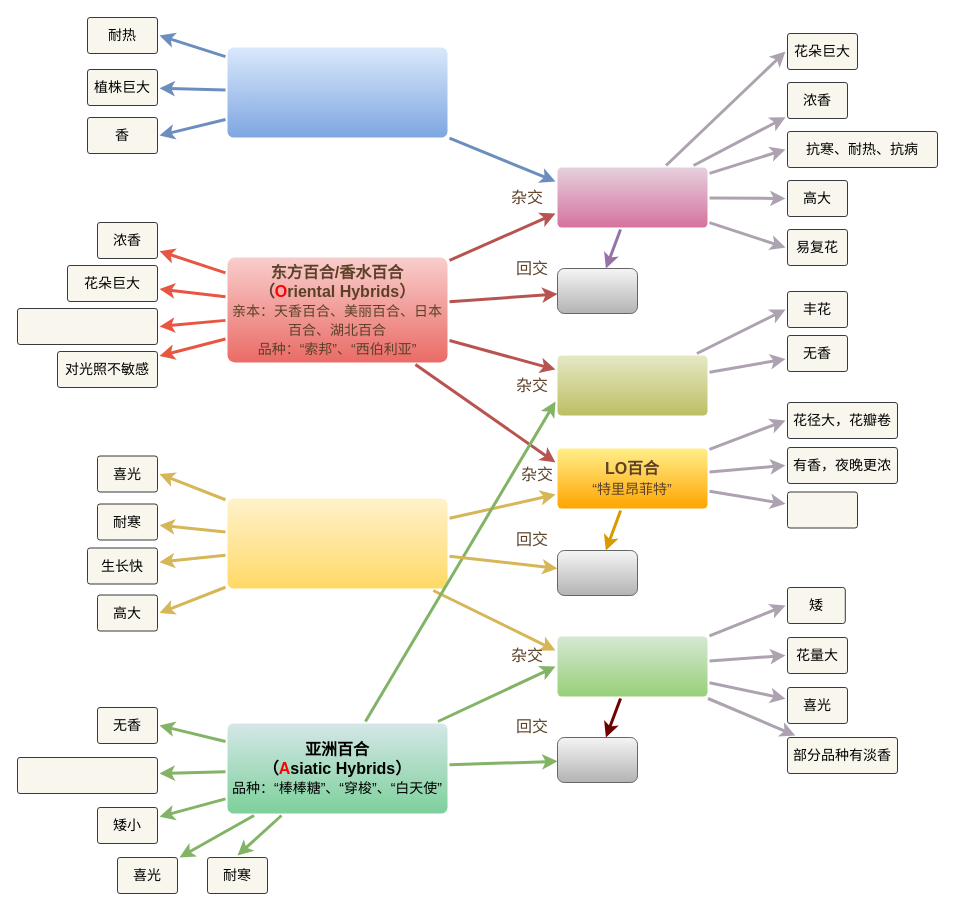
Image size: 955x911. Some labels were removed from this diagram. Each missing label, with the centre of its shape:
"LAA百合" belongs at (597,759).
"LA百合 “信使”、“眼线”" belongs at (632,666).
"LLO百合" belongs at (597,573).
"OA百合" belongs at (632,385).
"OOT百合" belongs at (597,291).
"OT百合 “木门”、“罗宾娜”、“黄天霸”" belongs at (632,197).
"喇叭百合 （ T rumpet Hybrids） 品种：“盛宴”" belongs at (337,92).
"复花稳定" belongs at (822,509).
"生长期长，大部分品种难复花" belongs at (87,326).
"花数量最大，花径小" belongs at (87,775).
"铁炮百合 （ L ongiflorum Hybrids） 亲本：台湾百合、麝香百合 品种：“布林迪西”、“白天堂”" belongs at (337,543).
